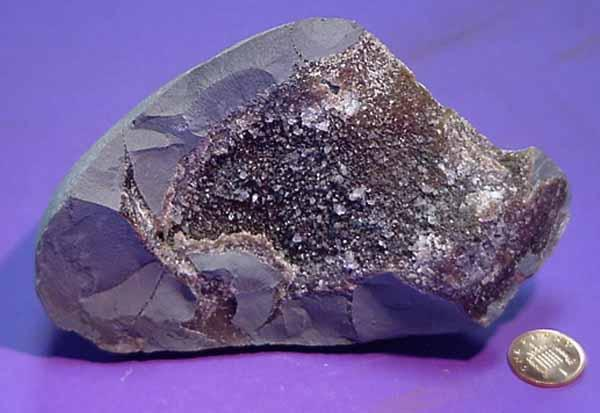calcite: (123, 32, 570, 326)
